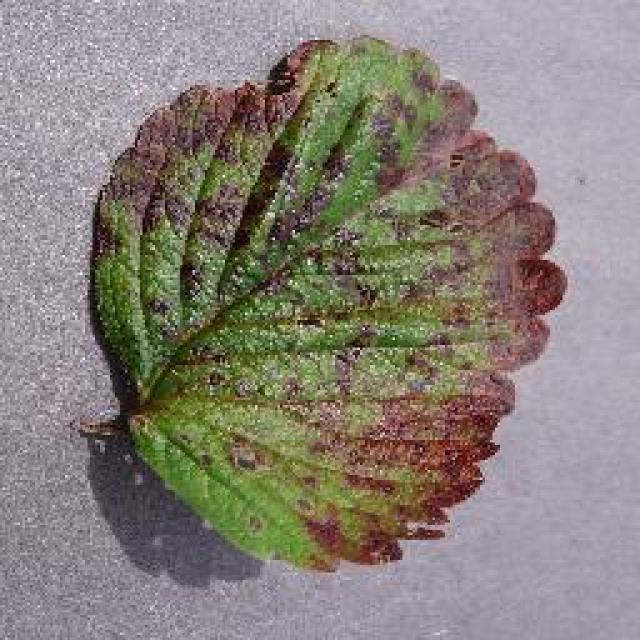Strawberry leaf scorch: (153, 118, 482, 467)
